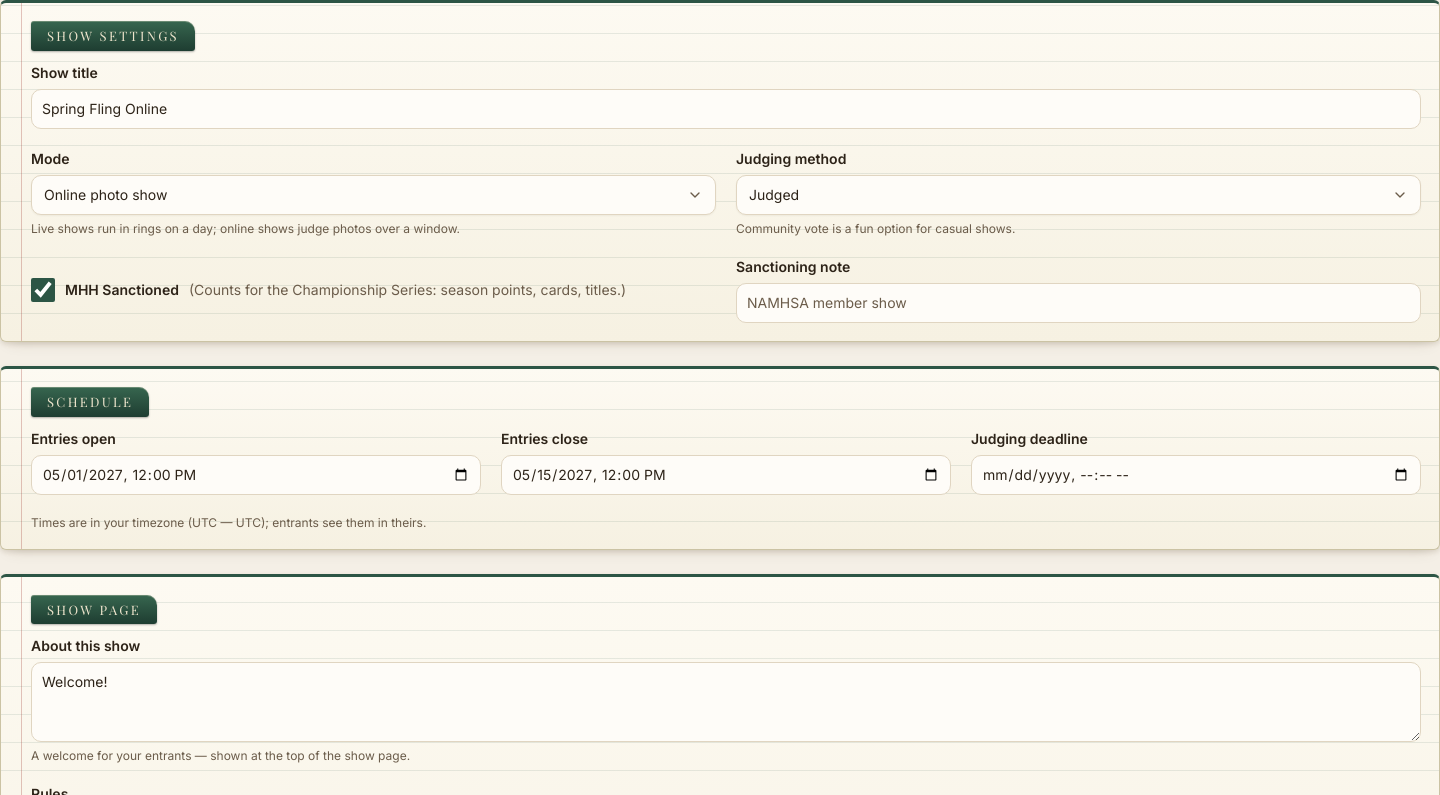
Scenario: ShowSettingsForm — draft locks and saving › surfaces the action's refusal verbatim
This screenshot has width=1440, height=795.
Replace the text in the field showing "Spring Fling Online" with "Autumn Gala Online": (726, 109) [31,89,1421,129]
(page scrolled)
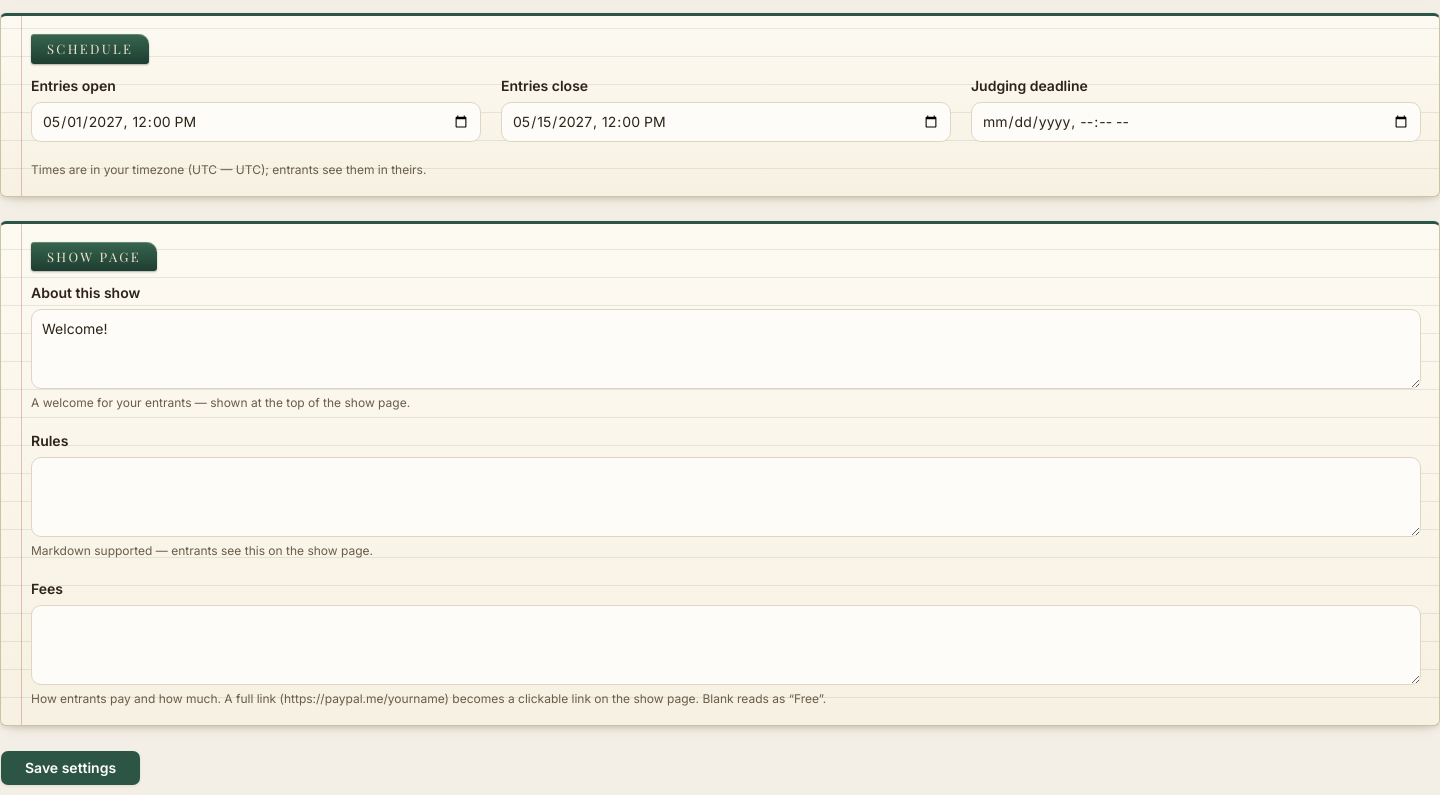
Click the button with test id "settings-save": (71, 768) [0,750,141,786]
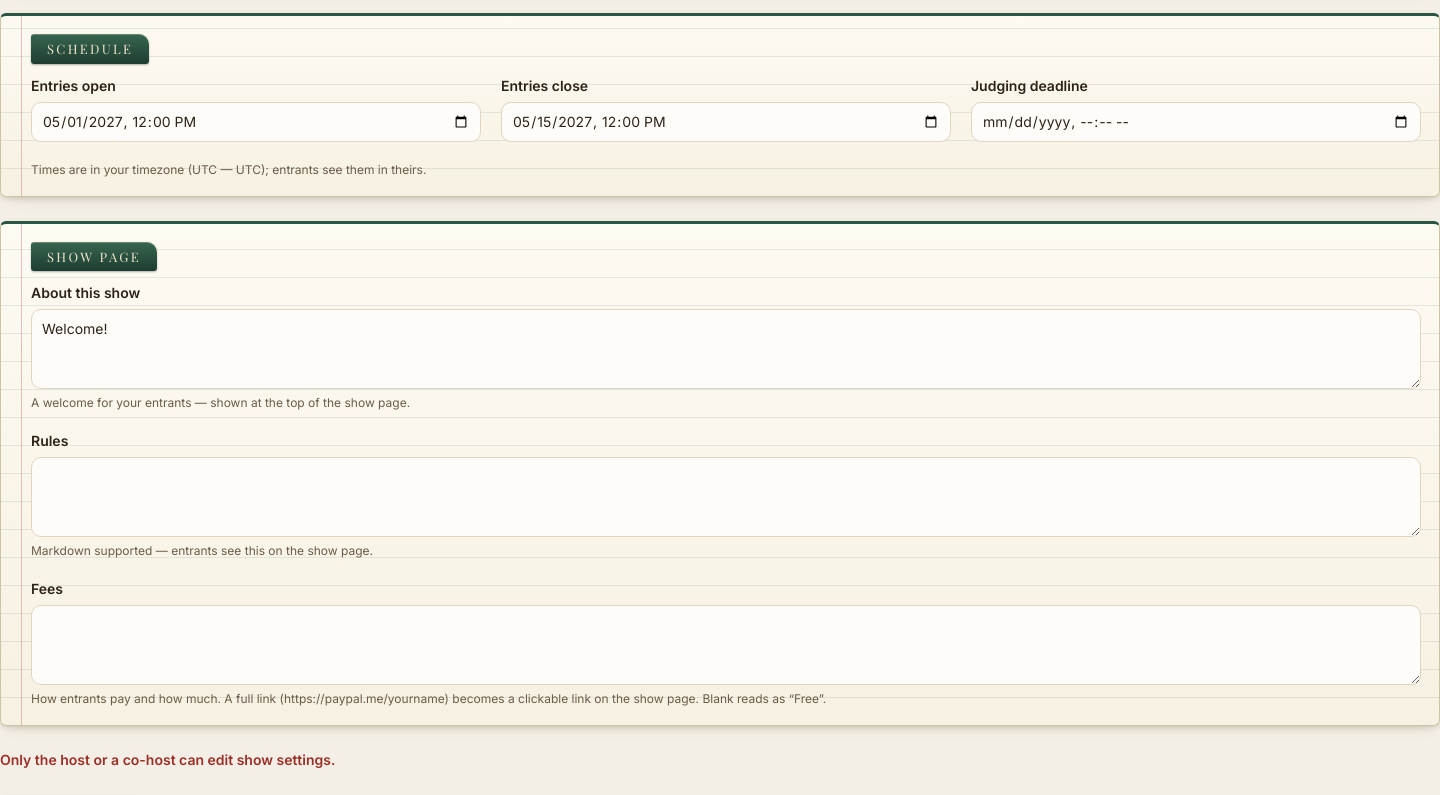
Result: the text "Only the host or a co-host can edit show settings." is shown at [0,751,335,768]
